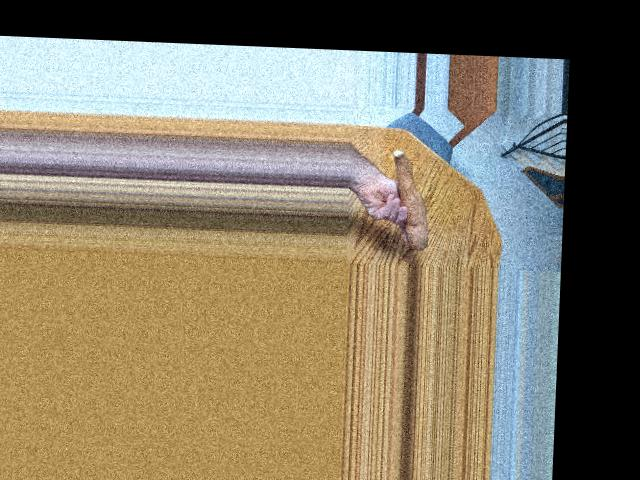sweet_potato: (386, 148, 433, 252)
